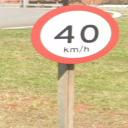speed_limit_40: (31, 4, 121, 64)
